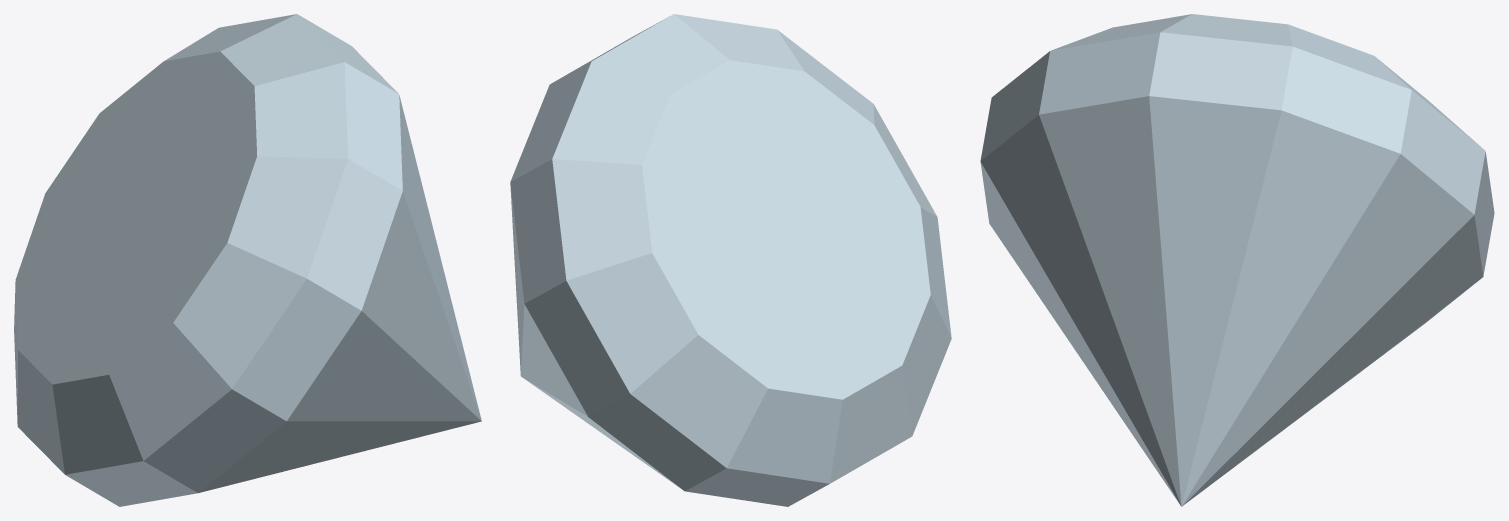
File: diamond.fbx
The picture shows the model from 3 angles, left to right: view 1: azimuth 30°, elevation 25°; view 2: azimuth 150°, elevation 25°; view 3: azimuth 270°, elevation 25°; orthographic projection. The views are drawn at different scales.
Visible parts, largest first — view 1: Diamond; view 2: Diamond; view 3: Diamond.
Boxes of the visible parts, <box> form: Diamond: <box>14,14,481,506</box>; Diamond: <box>510,14,951,506</box>; Diamond: <box>980,14,1494,506</box>.
Bounding box in the file's own units: 26.09 × 28.23 × 24.55.
